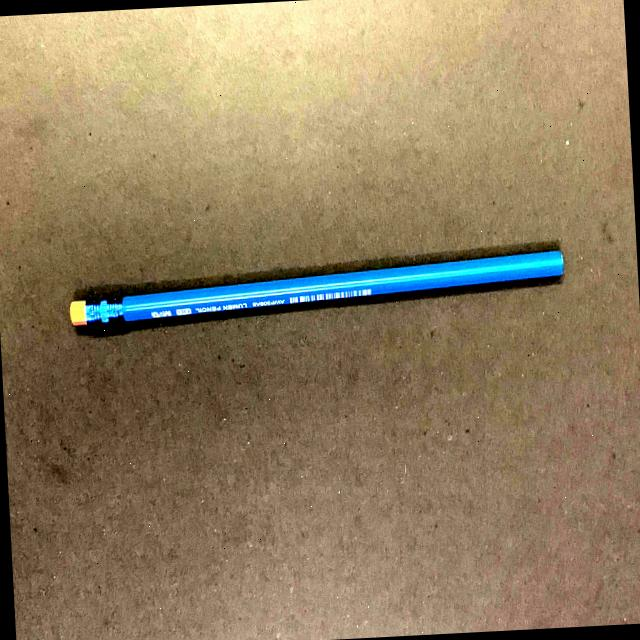Pencil: (55, 227, 610, 342)
